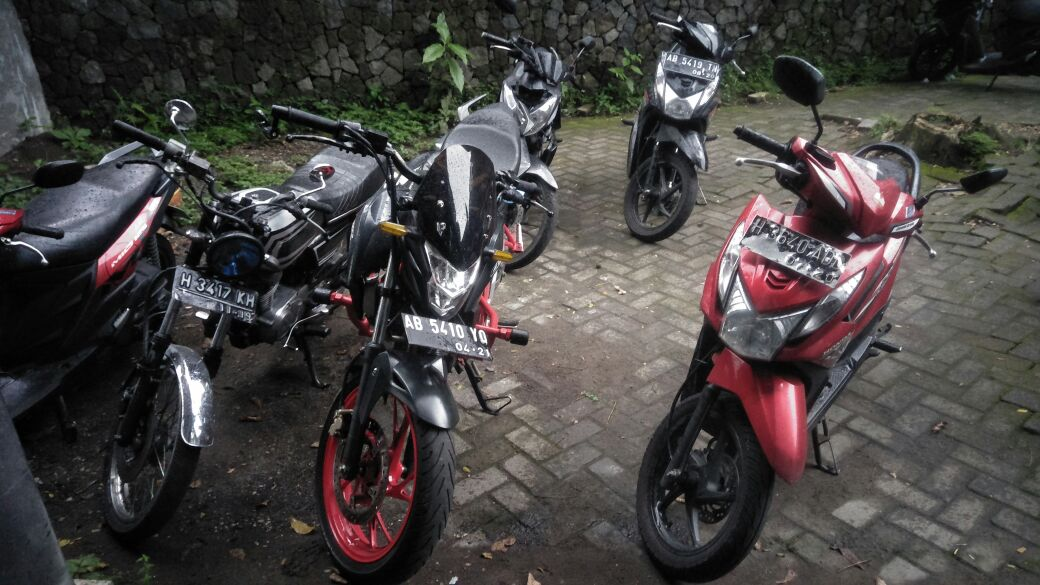plate: (740, 214, 855, 291), (170, 264, 257, 327), (399, 309, 495, 362), (662, 52, 720, 85)
